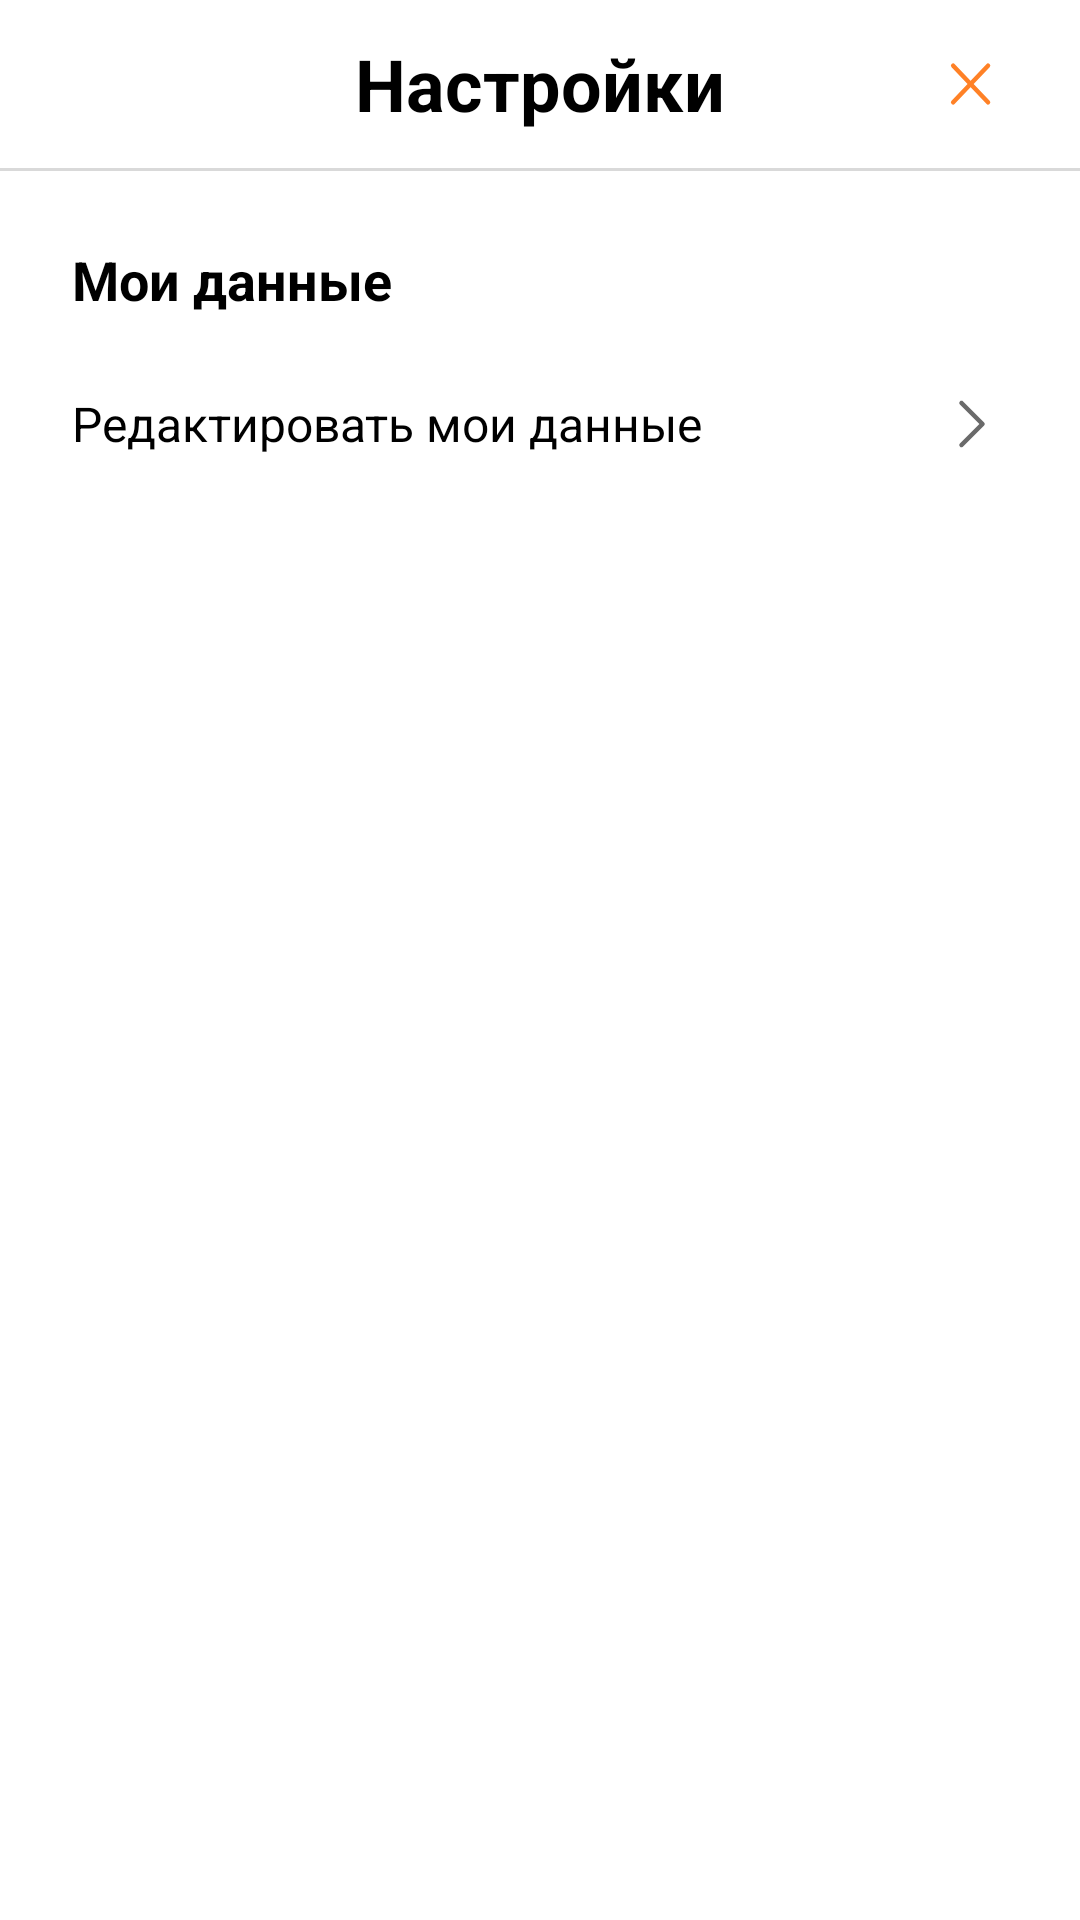

Where to tap for icons on this 1080 × 1920 app screen, as (x=x, y=y):
close: (x=971, y=84)
next: (x=972, y=424)
